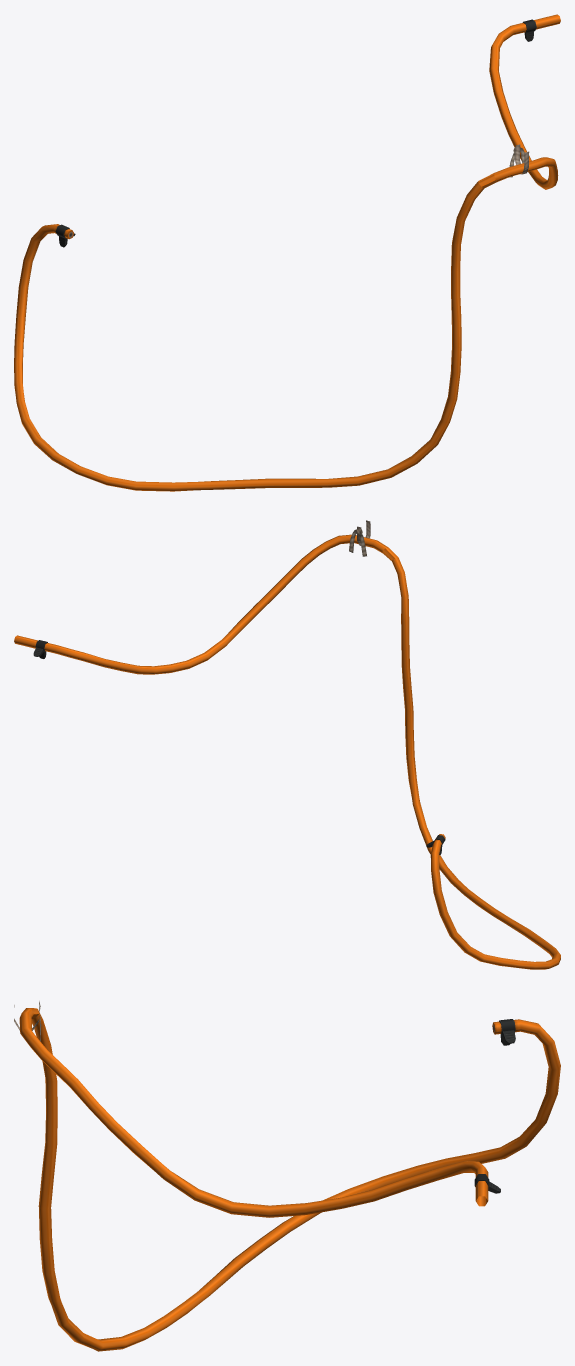
File: jsf_GasRange_18a.fbx
3 views of the same model, one above another, from view 1: azimuth 30°, elevation 25°; view 2: azimuth 150°, elevation 25°; view 3: azimuth 270°, elevation 25° (orthographic). The views are drawn at different scales.
Parts seen in each view (by area): view 1: GasHose; view 2: GasHose; view 3: GasHose.
Part boxes in pixels (x1,y1,x2,y2): GasHose: [14, 14, 560, 491]; GasHose: [14, 520, 560, 969]; GasHose: [14, 1001, 560, 1351].
Size of the model in its own units: 119 by 68.15 by 77.68.
